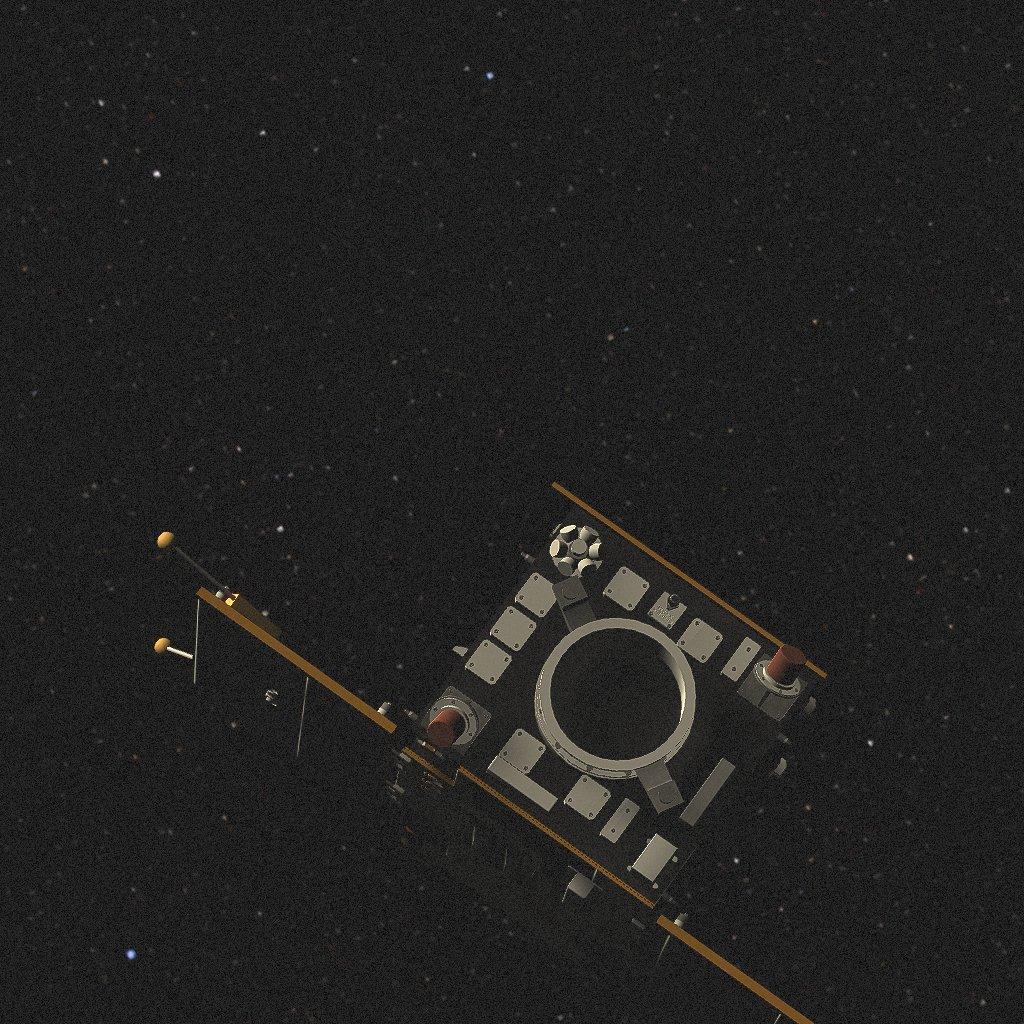proba_2: (155, 482, 827, 1024)
